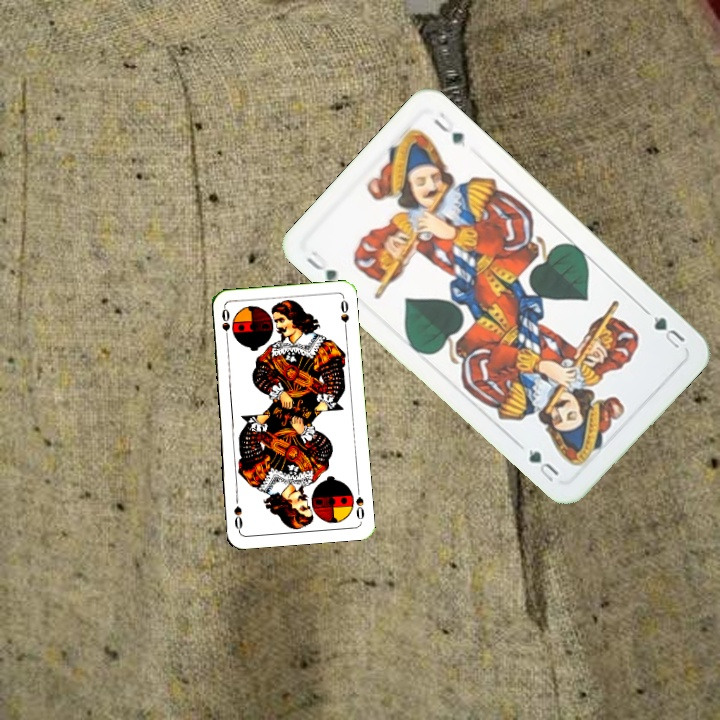GU: (648, 312, 688, 351), (302, 246, 340, 285)
SO: (218, 304, 233, 345), (352, 483, 367, 523)
